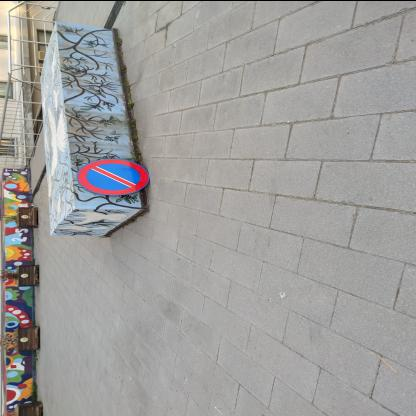No Waiting: (77, 159, 150, 195)
